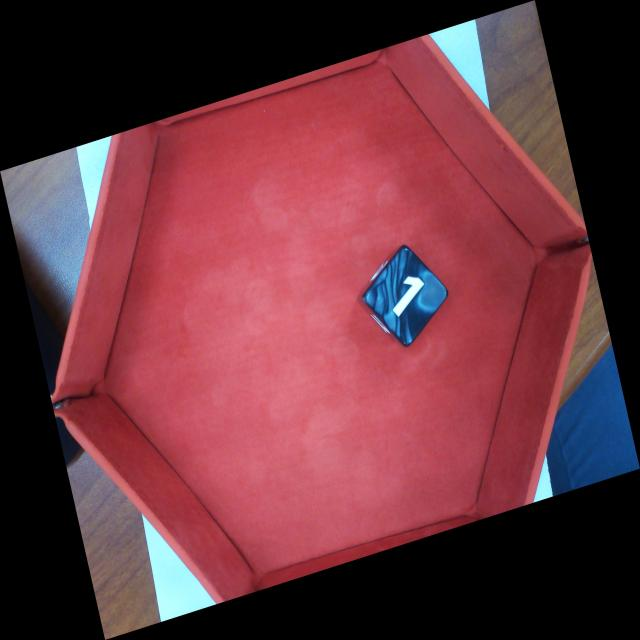dice: (369, 246, 450, 340)
